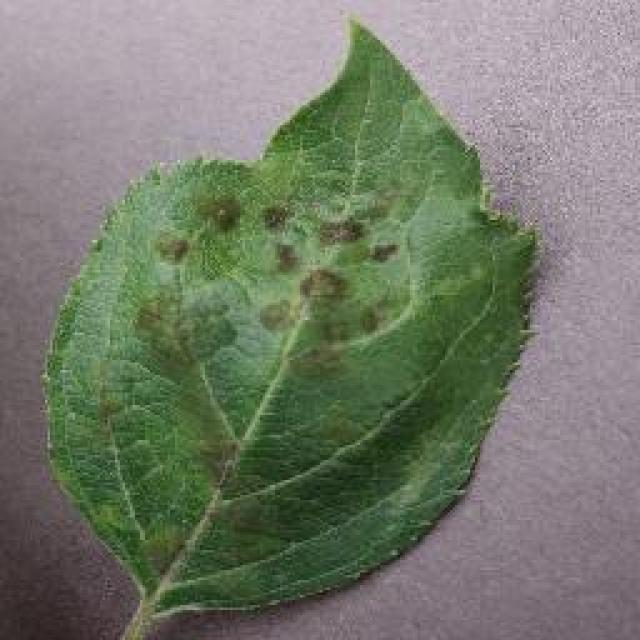apple scab disease: (38, 12, 542, 638)
